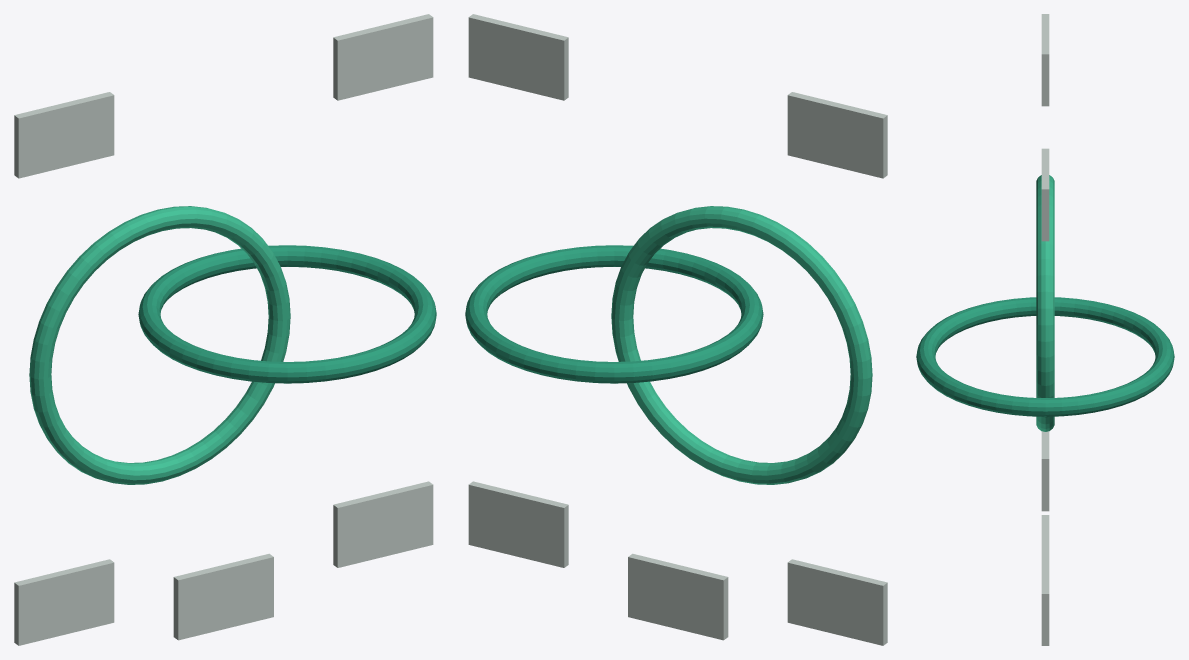
The model's file is scene-06-threads.glb.
The picture shows the model from 3 angles, left to right: view 1: azimuth 30°, elevation 25°; view 2: azimuth 150°, elevation 25°; view 3: azimuth 270°, elevation 25°; orthographic projection. The views are drawn at different scales.
Parts seen in each view (by area): view 1: threada, threadb, tile4, tile1, tile0, tile2, tile3; view 2: threada, threadb, tile4, tile1, tile0, tile2, tile3; view 3: threadb, threada, tile1, tile0, tile3, tile2.
Boxes of the visible parts, bbox=[...] form: threada: bbox=[29, 206, 290, 484]; threadb: bbox=[138, 245, 436, 383]; tile4: bbox=[173, 553, 273, 640]; tile1: bbox=[333, 14, 433, 100]; tile0: bbox=[14, 92, 114, 178]; tile2: bbox=[14, 559, 114, 645]; tile3: bbox=[333, 481, 433, 567]; threada: bbox=[611, 206, 872, 484]; threadb: bbox=[465, 245, 763, 383]; tile4: bbox=[628, 553, 728, 640]; tile1: bbox=[468, 14, 568, 100]; tile0: bbox=[787, 92, 887, 178]; tile2: bbox=[787, 559, 887, 645]; tile3: bbox=[468, 481, 568, 567]; threadb: bbox=[916, 297, 1174, 416]; threada: bbox=[1036, 175, 1054, 431]; tile1: bbox=[1041, 148, 1049, 241]; tile0: bbox=[1041, 14, 1049, 106]; tile3: bbox=[1041, 553, 1049, 645]; tile2: bbox=[1041, 431, 1049, 511].
Bounding box in the file's own units: 2.6 × 3.36 × 1.62.
